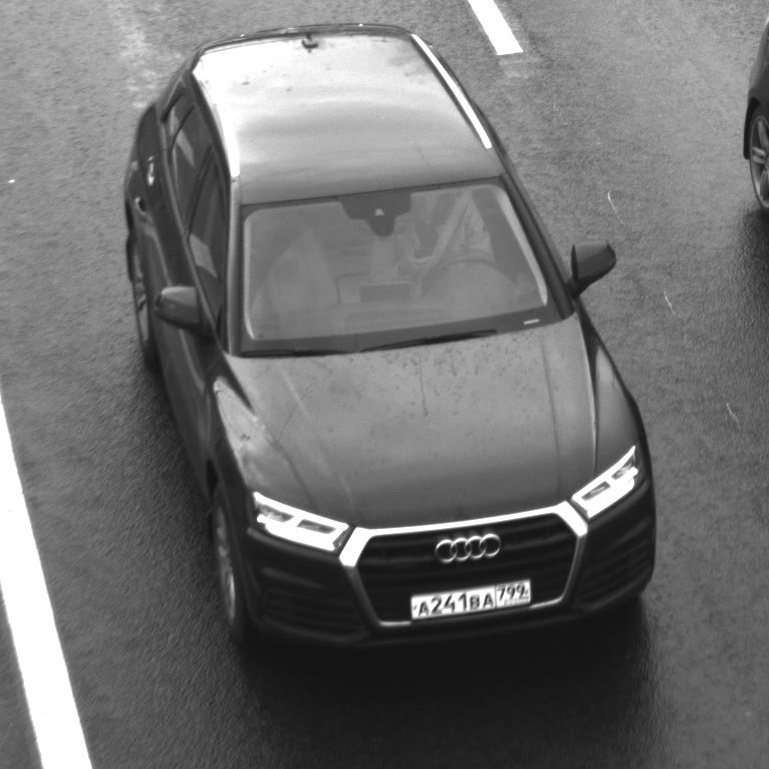plate: (401, 570, 540, 625)
